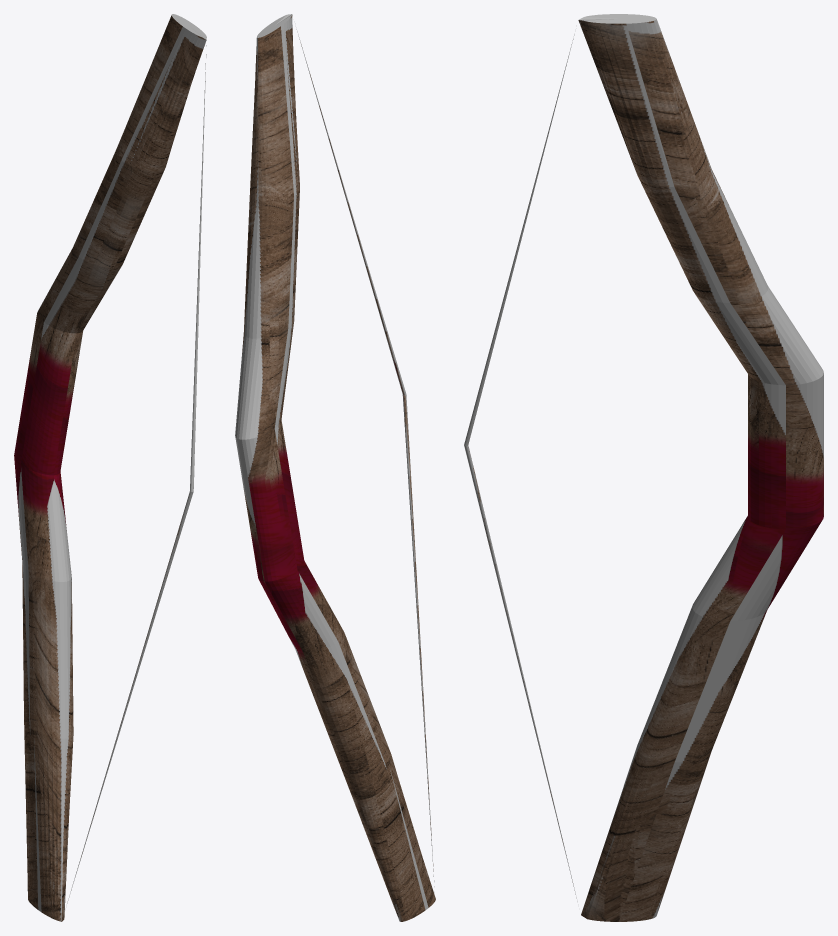
The model's file is Protagonista13.obj.
3 renders of one model, left to right at view 1: azimuth 30°, elevation 25°; view 2: azimuth 150°, elevation 25°; view 3: azimuth 270°, elevation 25°, orthographic. The views are drawn at different scales.
Parts seen in each view (by area): view 1: Cilindro; view 2: Cilindro; view 3: Cilindro.
Boxes of the visible parts, x1=… form: Cilindro: x1=14, y1=14, x2=206, y2=921; Cilindro: x1=235, y1=14, x2=435, y2=921; Cilindro: x1=464, y1=14, x2=823, y2=921.
Bounding box in the file's own units: 0.1877 × 0.9705 × 0.3229.
1 material, 1 textured.
